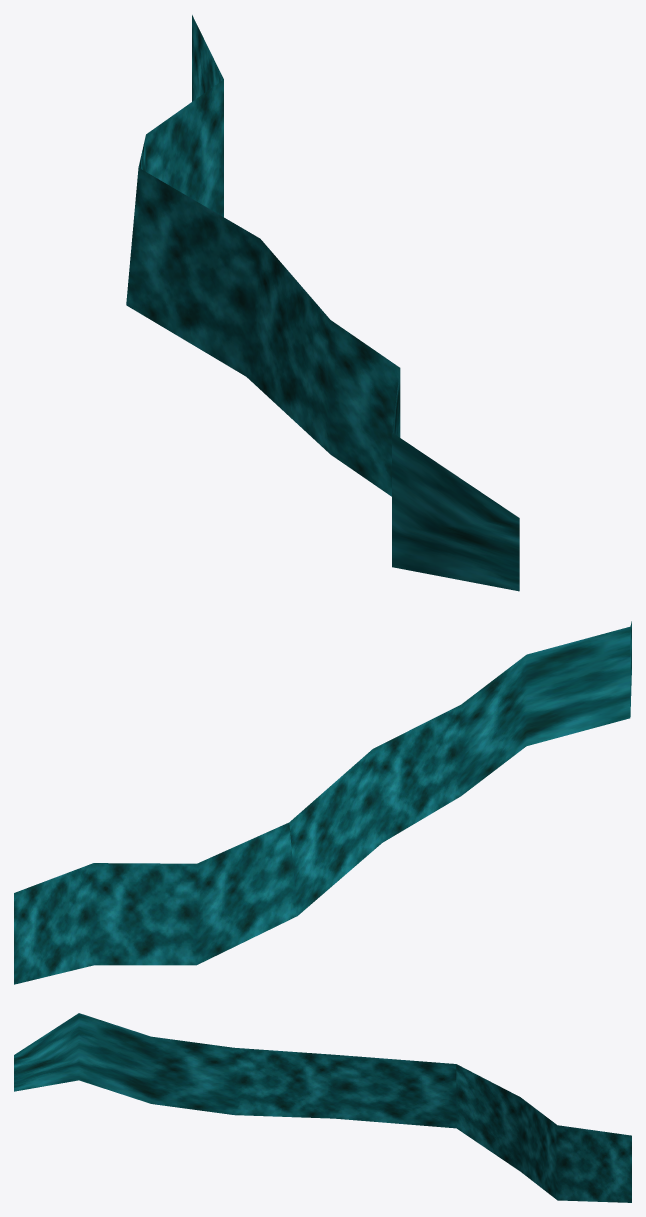
Rendered from MIRKWOOD_FOG_B.fbx.
3 views of the same model, one above another, from view 1: azimuth 30°, elevation 25°; view 2: azimuth 150°, elevation 25°; view 3: azimuth 270°, elevation 25° (orthographic). The views are drawn at different scales.
Parts seen in each view (by area): view 1: MIRKWOOD_FOG_B; view 2: MIRKWOOD_FOG_B; view 3: MIRKWOOD_FOG_B.
Part boxes in pixels (x1=…): MIRKWOOD_FOG_B: x1=126, y1=15, x2=519, y2=591; MIRKWOOD_FOG_B: x1=14, y1=621, x2=631, y2=984; MIRKWOOD_FOG_B: x1=14, y1=1013, x2=631, y2=1202.
Size of the model in its own units: 227269 by 137517 by 689291.
1 material, 1 textured.
